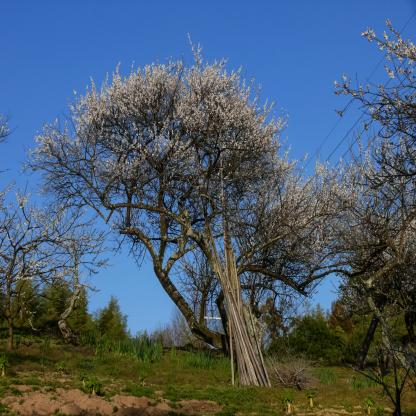Ume: (21, 29, 384, 313), (320, 13, 416, 356), (0, 91, 117, 324)
